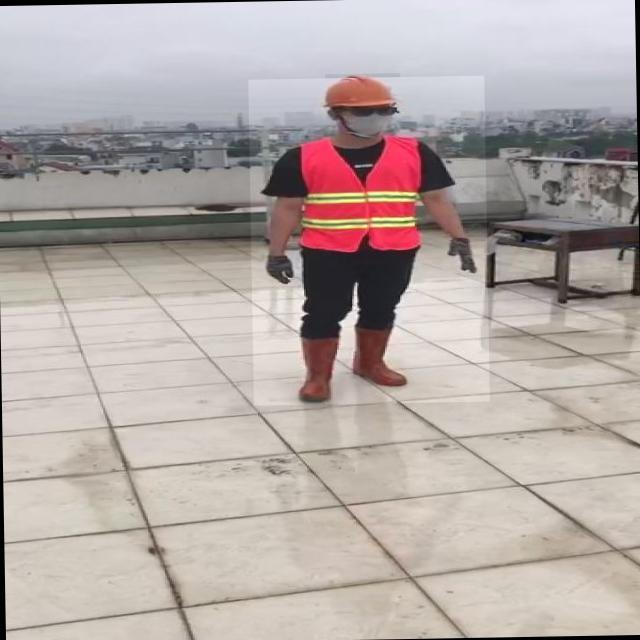Gloves: (445, 237, 480, 273), (264, 253, 295, 284)
Helmet: (325, 73, 402, 112)
Human: (248, 75, 490, 405)
Safety Boot: (351, 326, 412, 387), (296, 334, 343, 403)
Safety Vest: (295, 137, 423, 253)
